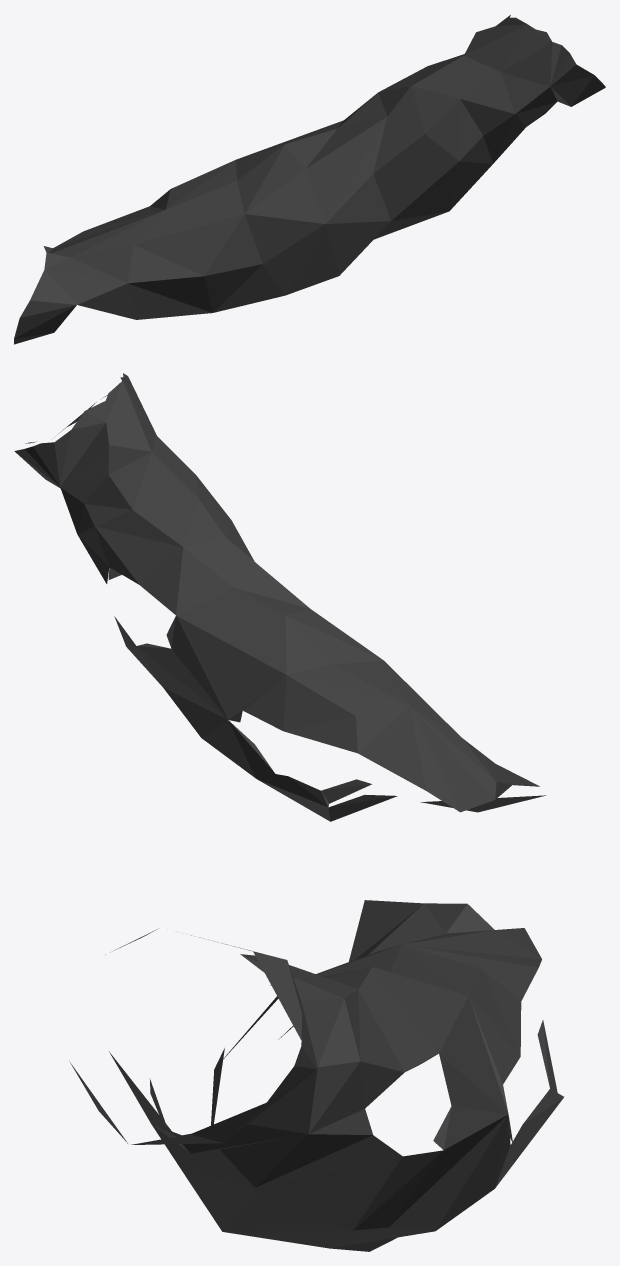
File: A_humeral_cranial_circumflex_A_humeral_cranial_circumflex.glb
3 views of the same model, one above another, from view 1: azimuth 30°, elevation 25°; view 2: azimuth 150°, elevation 25°; view 3: azimuth 270°, elevation 25° (orthographic). The views are drawn at different scales.
Visible parts, largest first — view 1: A_humeral_cranial_circumflex_A_humeral_cranial_circumflex; view 2: A_humeral_cranial_circumflex_A_humeral_cranial_circumflex; view 3: A_humeral_cranial_circumflex_A_humeral_cranial_circumflex.
Boxes of the visible parts, x1,y1,x2,y2 form: A_humeral_cranial_circumflex_A_humeral_cranial_circumflex: (14, 15, 605, 344); A_humeral_cranial_circumflex_A_humeral_cranial_circumflex: (14, 373, 546, 821); A_humeral_cranial_circumflex_A_humeral_cranial_circumflex: (69, 900, 563, 1251).
Size of the model in its own units: 0.0108 by 0.00501 by 0.00444.
1 material, 1 textured.
